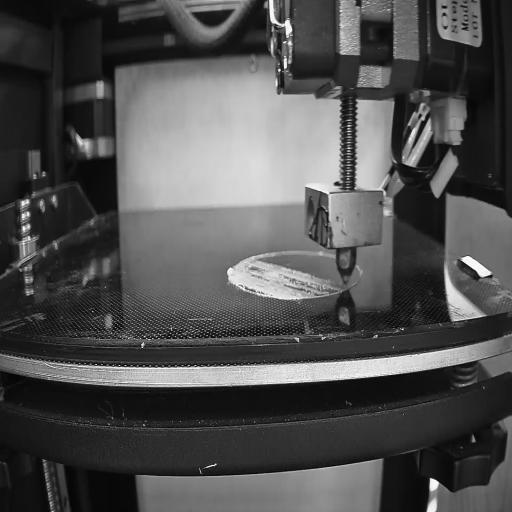under_extrusion: (278, 271, 336, 296), (239, 264, 268, 295)
